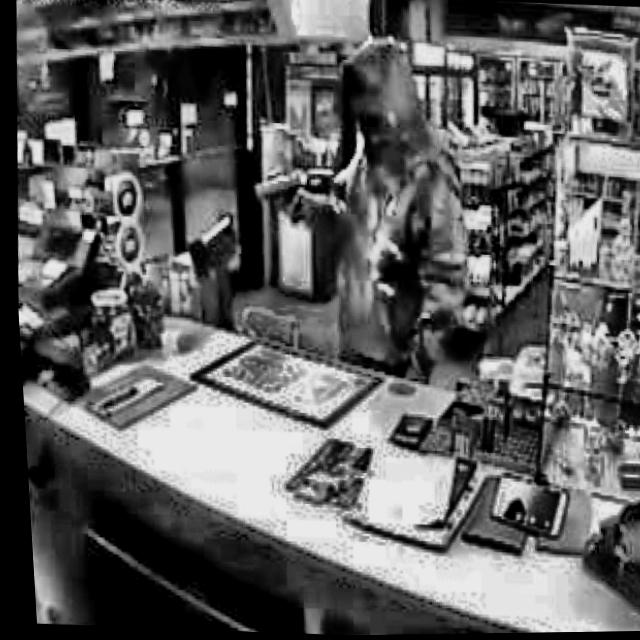robbery: (231, 34, 483, 384)
